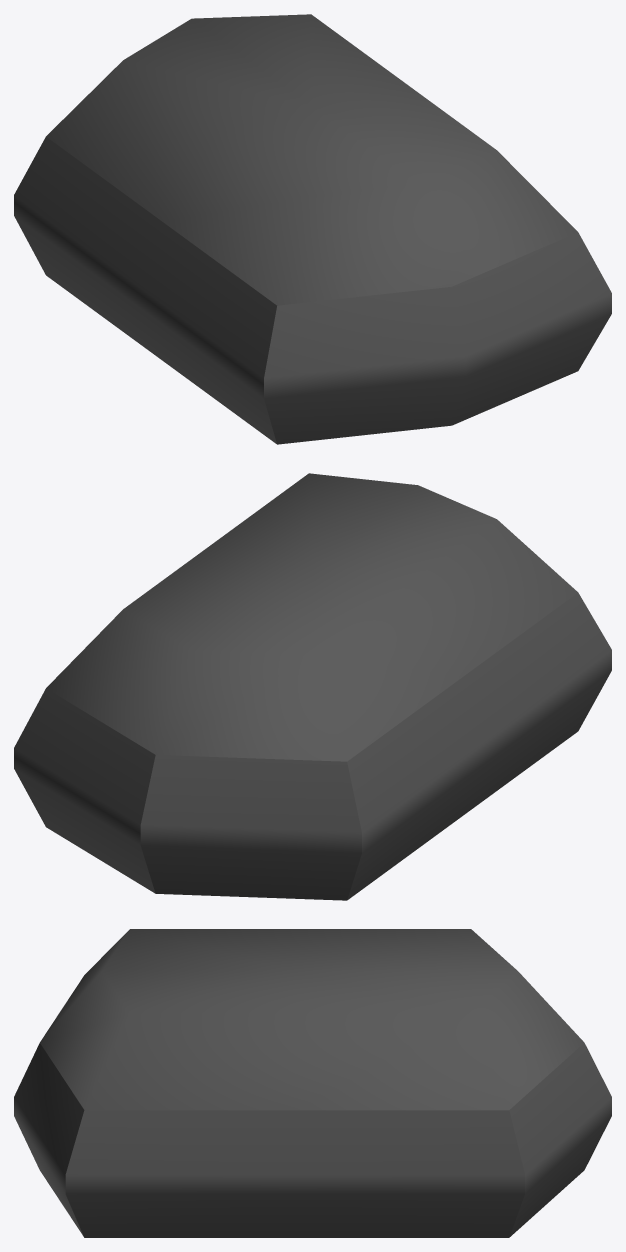
Rendered from rock01_text.fbx.
The picture shows the model from 3 angles, top to bottom: view 1: azimuth 30°, elevation 25°; view 2: azimuth 150°, elevation 25°; view 3: azimuth 270°, elevation 25°; orthographic projection. The views are drawn at different scales.
Parts seen in each view (by area): view 1: rock02; view 2: rock02; view 3: rock02.
Part boxes in pixels (box(x1,y1,x2,y2)): rock02: box(14, 14, 611, 444); rock02: box(14, 473, 611, 900); rock02: box(14, 929, 611, 1237).
Bounding box in the file's own units: 14.94 × 9.89 × 24.19.
1 material, 1 textured.
